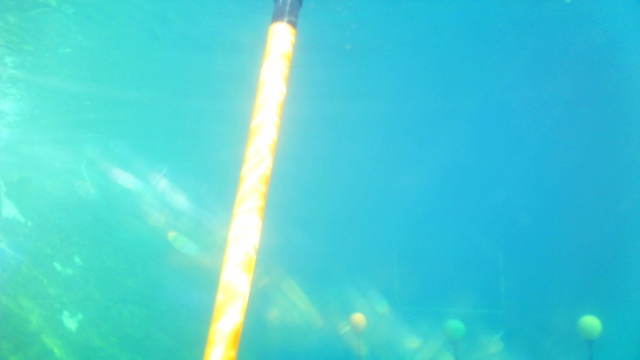buoy_green: (439, 317, 471, 344), (0, 0, 23, 24)
buoy_red: (347, 312, 367, 332)
